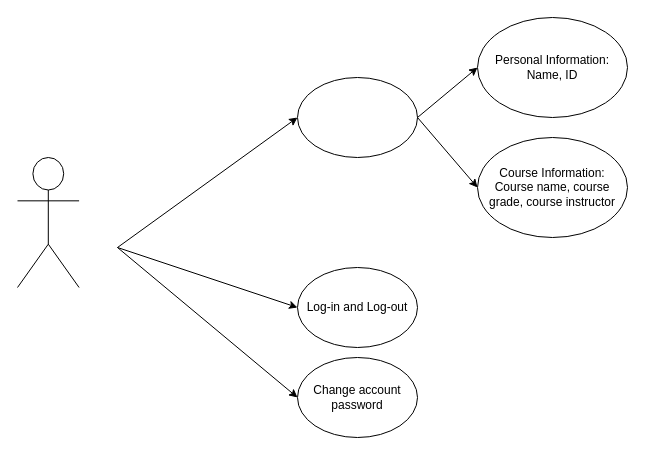
This 645x455 diagram has some shape labels left out. The shapes that lost their labels are listed below. From the top down, each one's centre as x and y in pixels, then its label:
At point 357,117: "View student information".
At point 47,222: "User".
